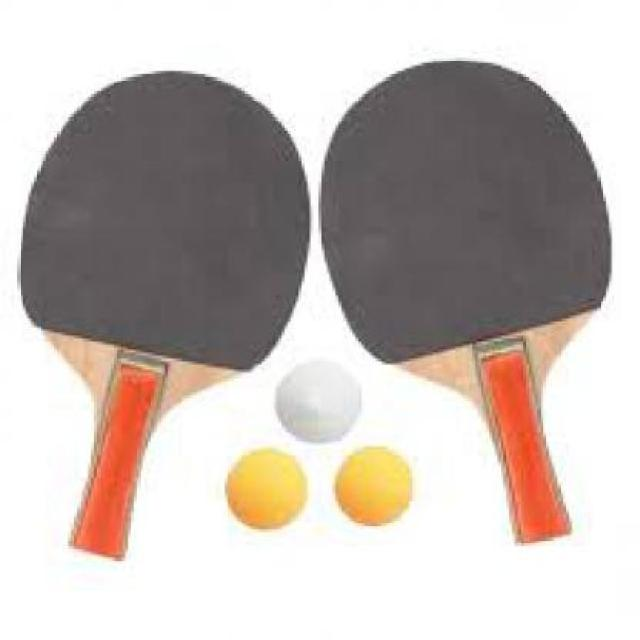table_tennis_racket: (13, 70, 312, 393), (314, 52, 611, 368)
